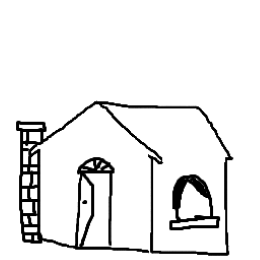bottom_placed_house: (0, 0, 260, 260)
chimney: (3, 112, 55, 170)
door: (68, 148, 129, 253)
open_window: (158, 169, 222, 236)
single_line_roof: (32, 88, 238, 165)
